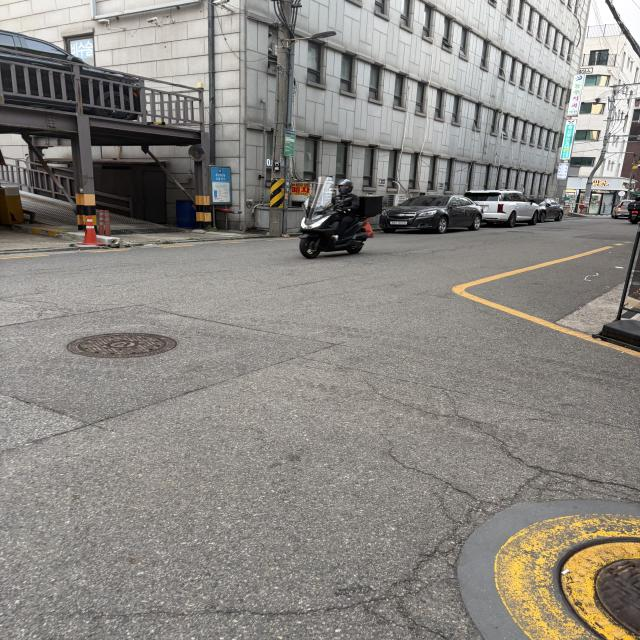motorcycle: (284, 168, 382, 270)
